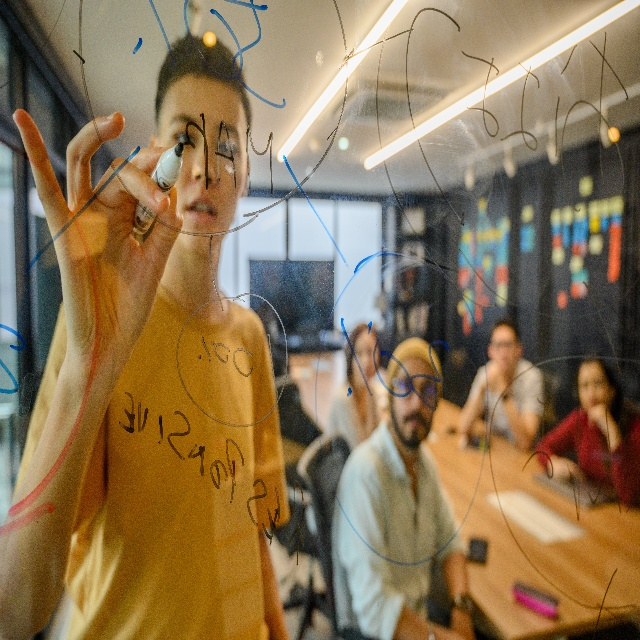Sin_guantes: (12, 105, 183, 398), (587, 400, 612, 436)
